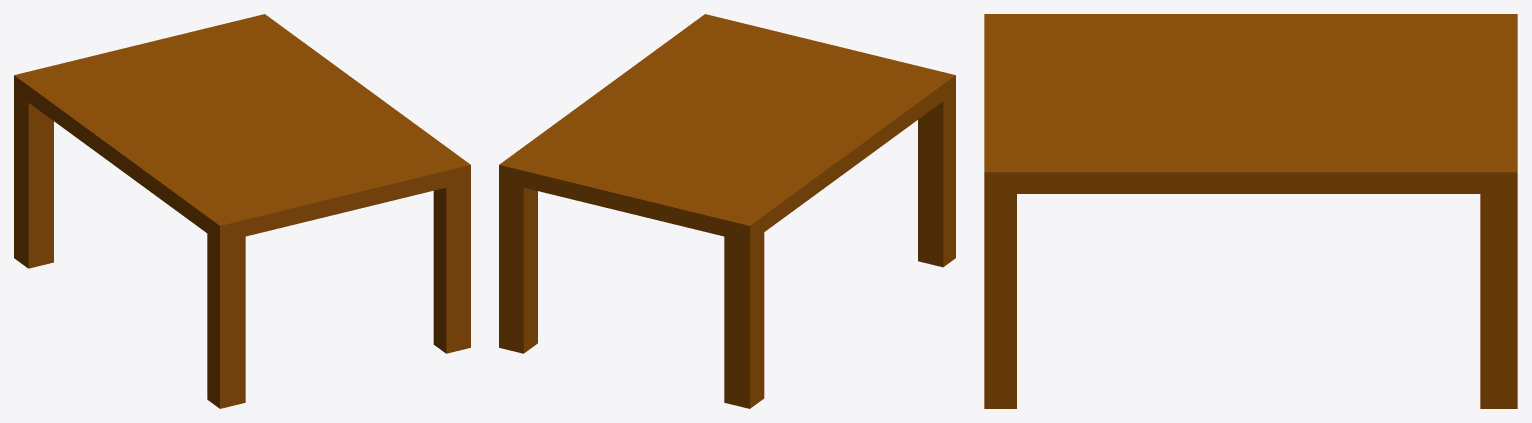
The model's file is koffietafel.fbx.
3 renders of one model, left to right at view 1: azimuth 30°, elevation 25°; view 2: azimuth 150°, elevation 25°; view 3: azimuth 270°, elevation 25°, orthographic. The views are drawn at different scales.
Visible parts, largest first — view 1: Cube; view 2: Cube; view 3: Cube.
Part boxes in pixels (x1,y1,x2,y2): Cube: (14,14,470,408); Cube: (499,14,955,408); Cube: (984,14,1517,408).
Bounding box in the file's own units: 698 × 486 × 993.
